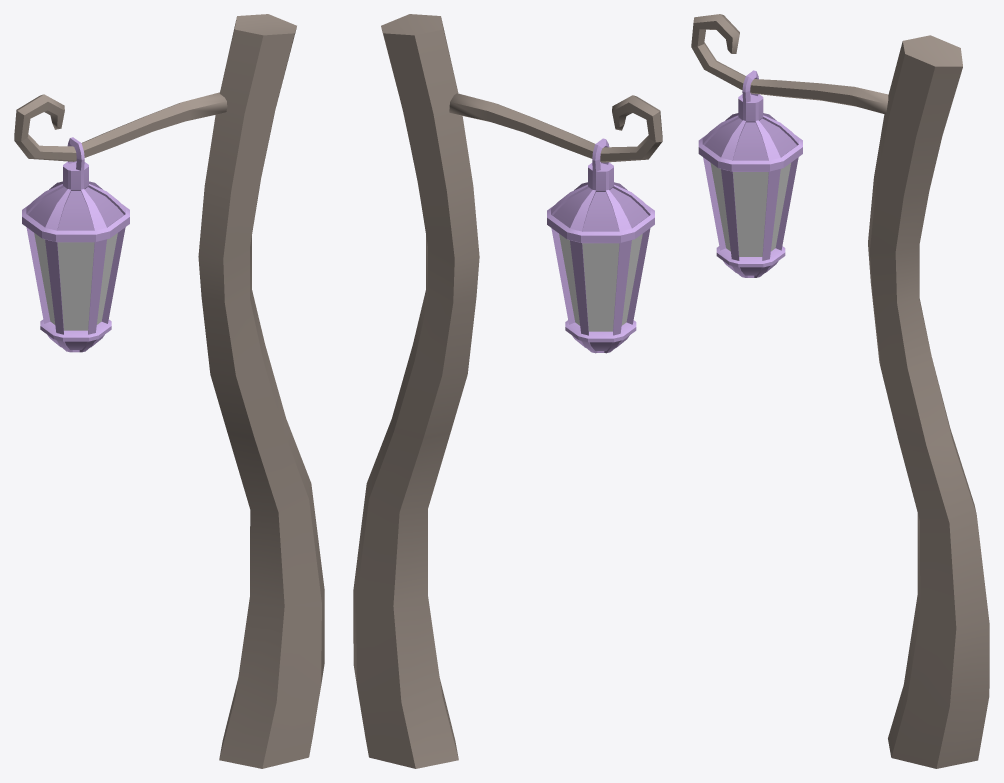
Rendered from Lampost.fbx.
The picture shows the model from 3 angles, left to right: view 1: azimuth 30°, elevation 25°; view 2: azimuth 150°, elevation 25°; view 3: azimuth 330°, elevation 25°; orthographic projection. The views are drawn at different scales.
Visible parts, largest first — view 1: Lampost; view 2: Lampost; view 3: Lampost.
Boxes of the visible parts, <box> form: Lampost: <box>14,14,324,768</box>; Lampost: <box>353,14,662,768</box>; Lampost: <box>691,14,989,768</box>.
Bounding box in the file's own units: 189 × 424 × 57.01.
